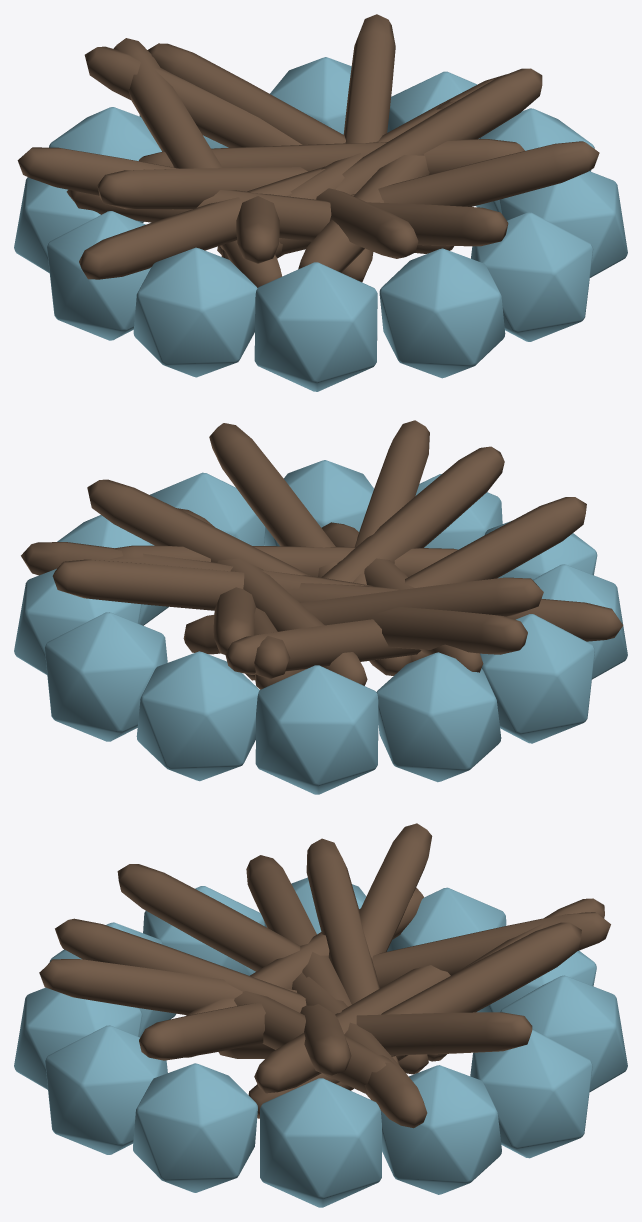
The model's file is Fire.glb.
The picture shows the model from 3 angles, top to bottom: view 1: azimuth 30°, elevation 25°; view 2: azimuth 150°, elevation 25°; view 3: azimuth 270°, elevation 25°; orthographic projection.
Visible parts, largest first — view 1: Cube.020, Icosphere.006; view 2: Icosphere.006, Cube.020; view 3: Cube.020, Icosphere.006.
Boxes of the visible parts, <box> form: Cube.020: <box>17,14,599,287</box>; Icosphere.006: <box>14,57,627,391</box>; Icosphere.006: <box>14,460,627,794</box>; Cube.020: <box>21,420,623,689</box>; Cube.020: <box>39,823,610,1128</box>; Icosphere.006: <box>14,877,627,1207</box>.
Bounding box in the file's own units: 3.06 × 0.8871 × 3.04.
